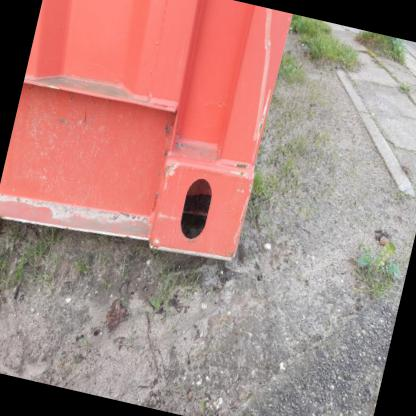CornerCasting: (144, 137, 263, 267)
